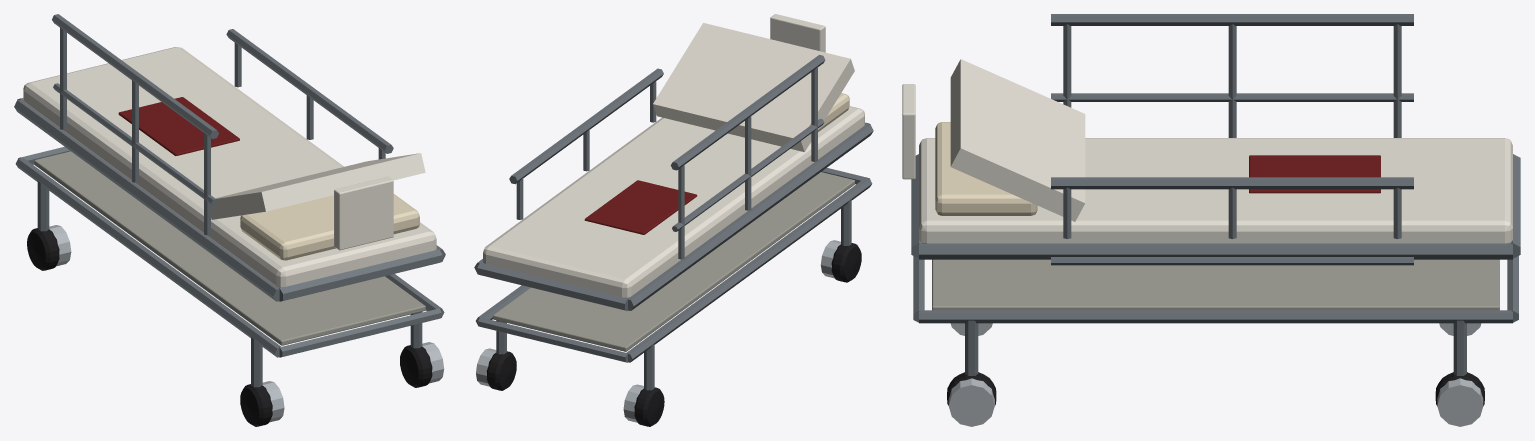
File: gurney.glb
3 views of the same model, side by side, from view 1: azimuth 30°, elevation 25°; view 2: azimuth 150°, elevation 25°; view 3: azimuth 270°, elevation 25° (orthographic). The views are drawn at different scales.
Visible parts, largest first — view 1: gurney; view 2: gurney; view 3: gurney.
Part boxes in pixels (box(x1,y1,x2,y2)): gurney: box(14, 14, 445, 426); gurney: box(474, 14, 873, 426); gurney: box(902, 14, 1520, 426).
Size of what is drawn, in the model's own units: 0.759 by 1.04 by 1.87.
3 materials, 3 textured.
